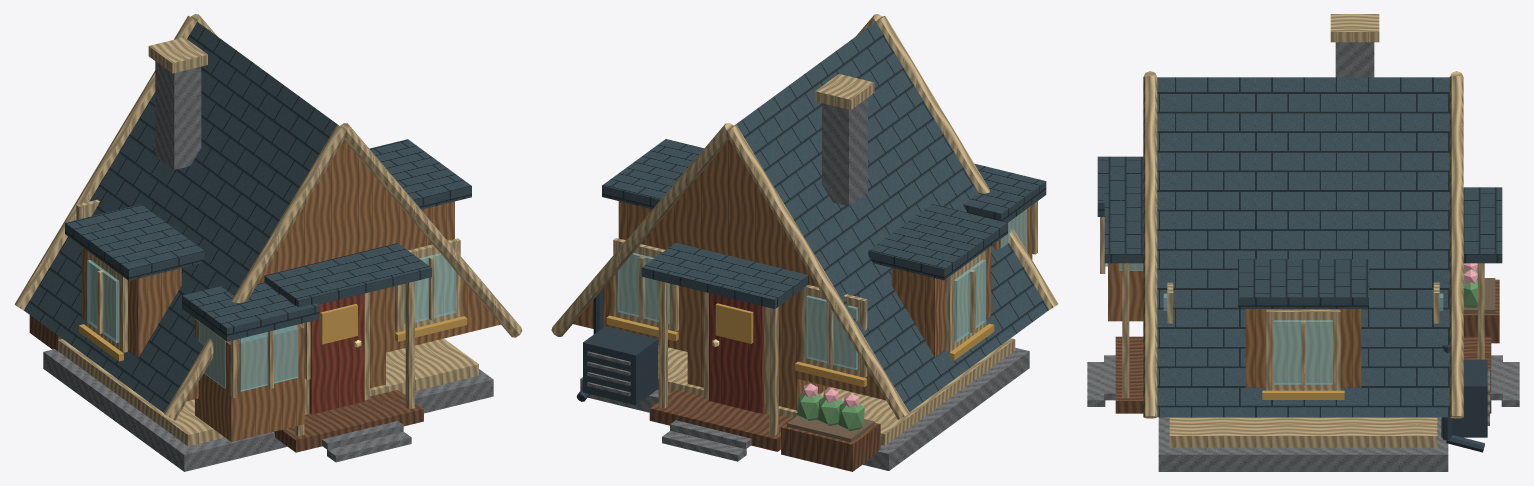
The model's file is house_aframe_lv1_bay.glb.
3 views of the same model, side by side, from view 1: azimuth 30°, elevation 25°; view 2: azimuth 150°, elevation 25°; view 3: azimuth 270°, elevation 25° (orthographic). The views are drawn at different scales.
Visible parts, largest first — view 1: steep_roof, a_frame_gables, bay_base, foundation, floor_trim, left_dormer_cap, front_porch_canopy, bay_cap, front_door, chimney, a_frame_edge, front_deck (+21 smaller); view 2: steep_roof, a_frame_gables, left_dormer_cap, back_porch_canopy, foundation, a_frame_edge.001, back_door, back_ac_unit, floor_trim, chimney, back_deck, a_frame_edge.003 (+29 smaller); view 3: steep_roof.001, floor_trim, foundation, right_dormer_cap, right_window_frame, a_frame_edge.002, a_frame_edge.003, right_window_glass, right_dormer, back_porch_canopy, front_porch_canopy, back_ac_unit (+15 smaller).
Boxes of the visible parts, x1=… form: steep_roof: x1=24, y1=22, x2=338, y2=412; a_frame_gables: x1=187, y1=140, x2=500, y2=400; bay_base: x1=195, y1=319, x2=304, y2=441; foundation: x1=43, y1=349, x2=493, y2=471; floor_trim: x1=58, y1=338, x2=478, y2=446; left_dormer_cap: x1=65, y1=204, x2=204, y2=280; front_porch_canopy: x1=264, y1=243, x2=431, y2=307; bay_cap: x1=182, y1=282, x2=319, y2=341; front_door: x1=309, y1=293, x2=364, y2=414; chimney: x1=155, y1=61, x2=201, y2=169; a_frame_edge: x1=164, y1=125, x2=346, y2=420; front_deck: x1=274, y1=390, x2=423, y2=452; steep_roof: x1=735, y1=22, x2=1048, y2=411; a_frame_gables: x1=573, y1=140, x2=885, y2=400; left_dormer_cap: x1=868, y1=204, x2=1007, y2=280; back_porch_canopy: x1=641, y1=242, x2=808, y2=308; foundation: x1=580, y1=347, x2=1029, y2=470; a_frame_edge.001: x1=727, y1=124, x2=909, y2=419; back_door: x1=709, y1=293, x2=763, y2=413; back_ac_unit: x1=583, y1=326, x2=658, y2=405; floor_trim: x1=657, y1=338, x2=1015, y2=445; chimney: x1=822, y1=98, x2=867, y2=206; back_deck: x1=649, y1=389, x2=793, y2=451; a_frame_edge.003: x1=551, y1=123, x2=733, y2=336; steep_roof.001: x1=1157, y1=77, x2=1449, y2=417; floor_trim: x1=1169, y1=417, x2=1437, y2=447; foundation: x1=1158, y1=417, x2=1448, y2=471; right_dormer_cap: x1=1238, y1=259, x2=1368, y2=308; right_window_frame: x1=1266, y1=309, x2=1340, y2=390; a_frame_edge.002: x1=1143, y1=75, x2=1157, y2=418; a_frame_edge.003: x1=1449, y1=75, x2=1463, y2=418; right_window_glass: x1=1274, y1=320, x2=1332, y2=384; right_dormer: x1=1245, y1=309, x2=1361, y2=387; back_porch_canopy: x1=1463, y1=187, x2=1502, y2=263; front_porch_canopy: x1=1104, y1=187, x2=1143, y2=263; back_ac_unit: x1=1441, y1=359, x2=1487, y2=437.
Size of the model in its own units: 3.29 by 2.9 by 3.36.
Materials: 13 (7 with a texture image).
